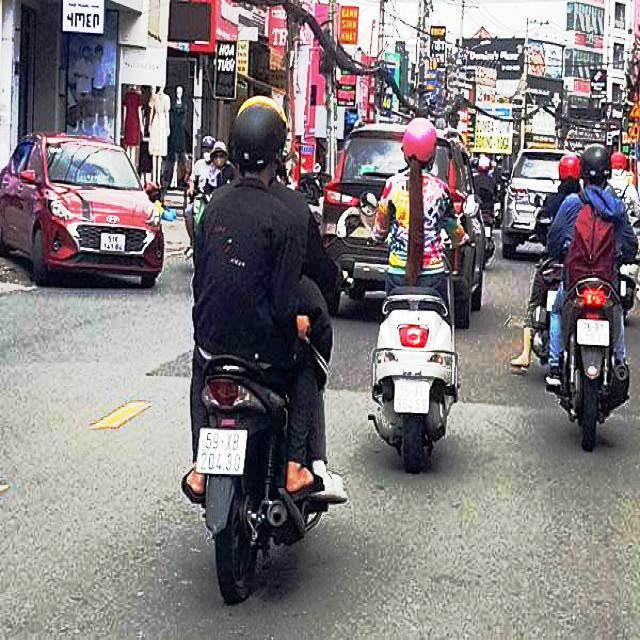license_plate: (197, 430, 248, 474), (394, 383, 432, 417), (577, 319, 611, 347)
